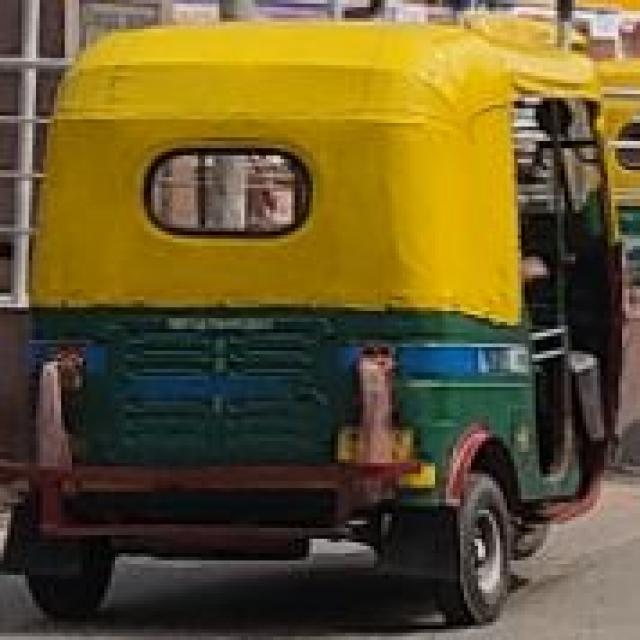autorickshaw: (18, 14, 633, 626)
